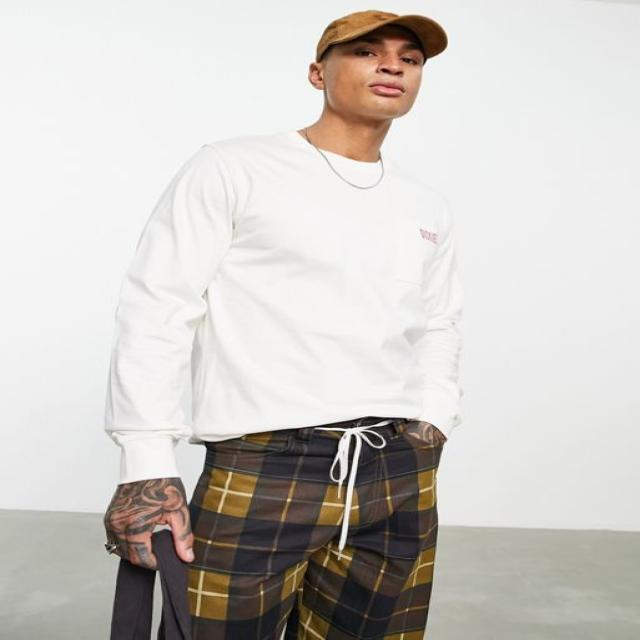tshirt: (101, 126, 468, 482)
